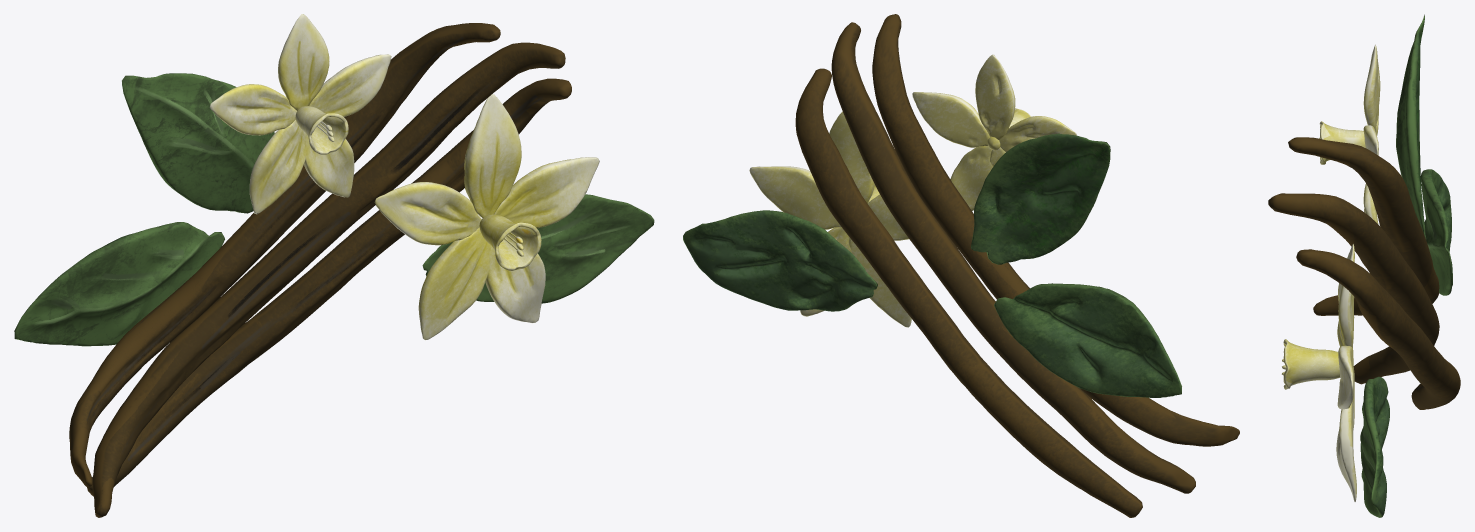
File: Vainilla 2.obj
3 views of the same model, side by side, from view 1: azimuth 30°, elevation 25°; view 2: azimuth 150°, elevation 25°; view 3: azimuth 270°, elevation 25° (orthographic). The views are drawn at different scales.
Parts seen in each view (by area): view 1: Tube_Tube, Flor_Flor, Hoja_Hoja; view 2: Tube_Tube, Hoja_Hoja, Flor_Flor; view 3: Tube_Tube, Hoja_Hoja, Flor_Flor.
Boxes of the visible parts, <box> form: Tube_Tube: <box>69,23,571,517</box>; Flor_Flor: <box>209,14,599,340</box>; Hoja_Hoja: <box>14,73,654,346</box>; Tube_Tube: <box>795,14,1239,517</box>; Hoja_Hoja: <box>683,133,1181,397</box>; Flor_Flor: <box>749,54,1076,327</box>; Tube_Tube: <box>1268,137,1460,409</box>; Hoja_Hoja: <box>1360,14,1452,517</box>; Flor_Flor: <box>1281,44,1380,501</box>.
Bounding box in the file's own units: 14.46 × 10.53 × 4.08.
Materials: 3 (3 with a texture image).
